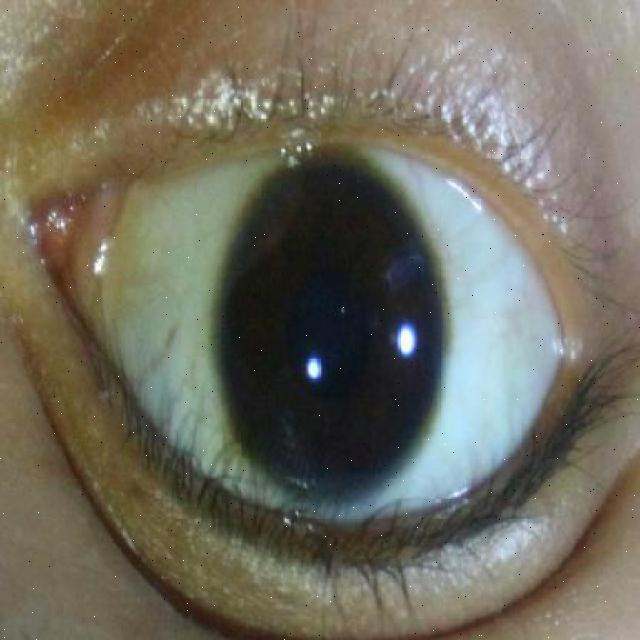Normal: (217, 147, 447, 513)
